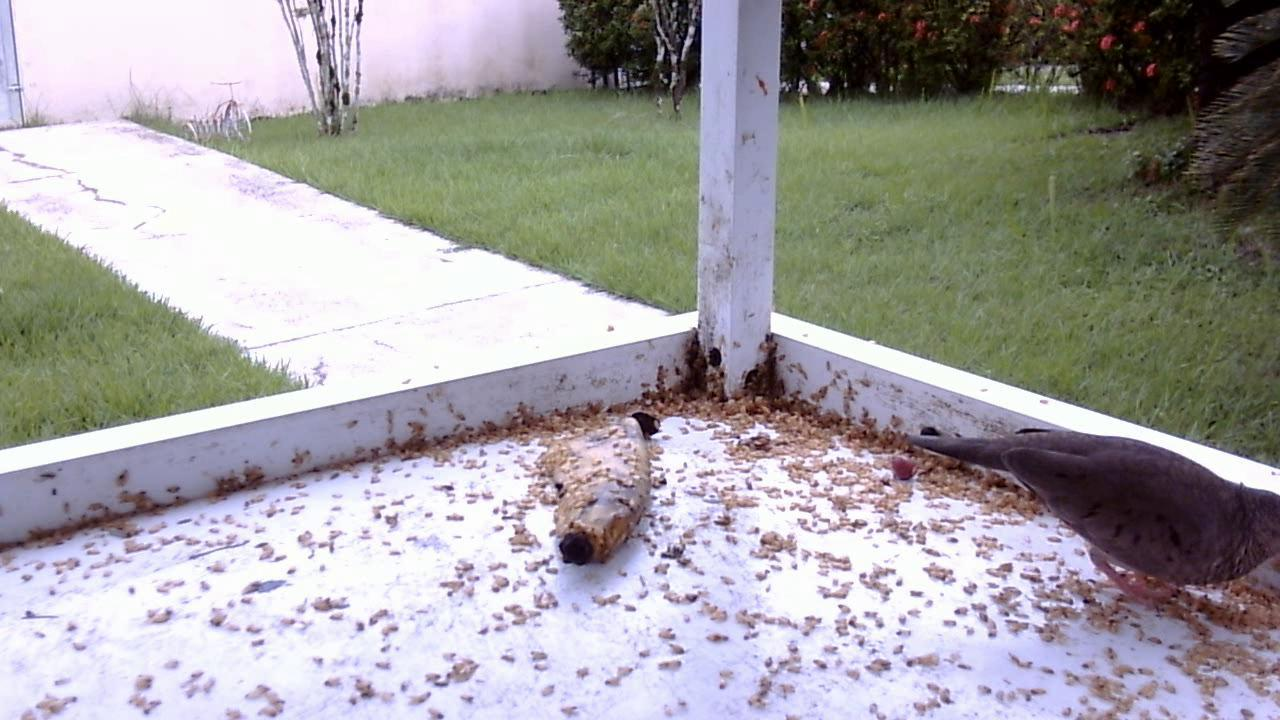rolinha: (885, 406, 1268, 627)
